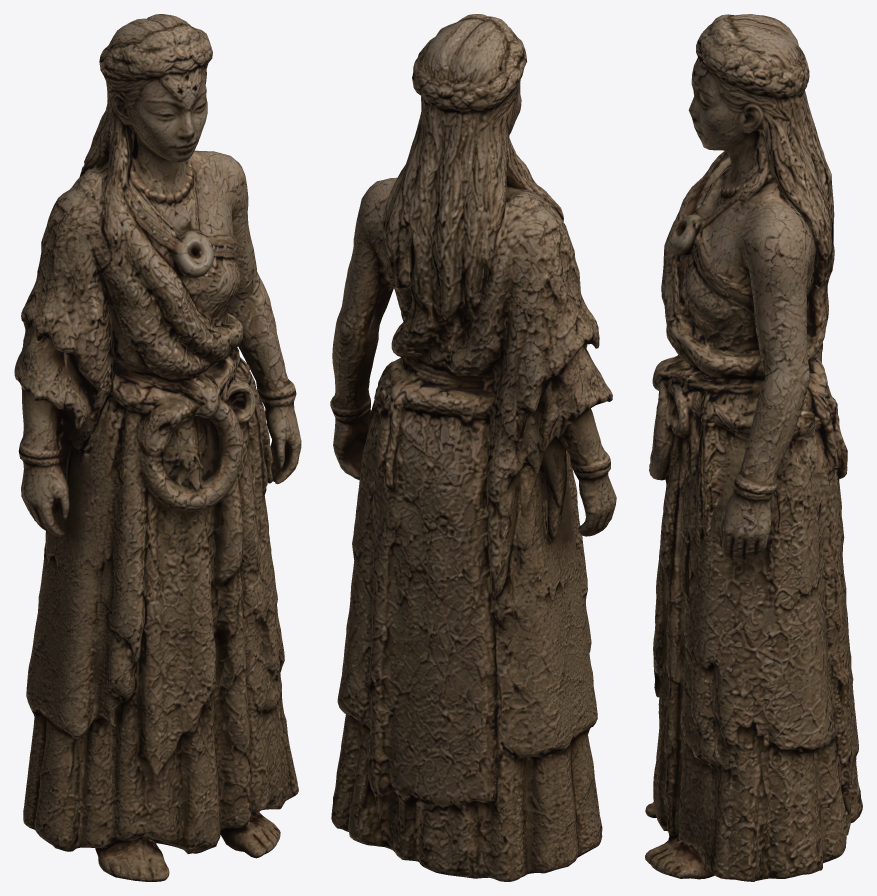
Rendered from goddess_statue_3d_model.fbx.
3 views of the same model, side by side, from view 1: azimuth 30°, elevation 25°; view 2: azimuth 150°, elevation 25°; view 3: azimuth 270°, elevation 25° (orthographic).
Visible parts, largest first — view 1: tripo_node_c6a62d08; view 2: tripo_node_c6a62d08; view 3: tripo_node_c6a62d08.
Boxes of the visible parts, x1=… form: tripo_node_c6a62d08: x1=14, y1=14, x2=301, y2=881; tripo_node_c6a62d08: x1=330, y1=14, x2=616, y2=881; tripo_node_c6a62d08: x1=645, y1=14, x2=862, y2=881.
Bounding box in the file's own units: 0.3412 × 0.9778 × 0.2347.
